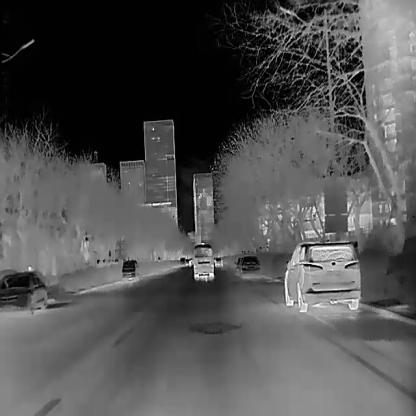bus: (192, 241, 213, 279)
car: (284, 239, 360, 313), (0, 269, 46, 314), (238, 255, 261, 277), (119, 259, 140, 281), (212, 256, 222, 267), (178, 256, 184, 266)
